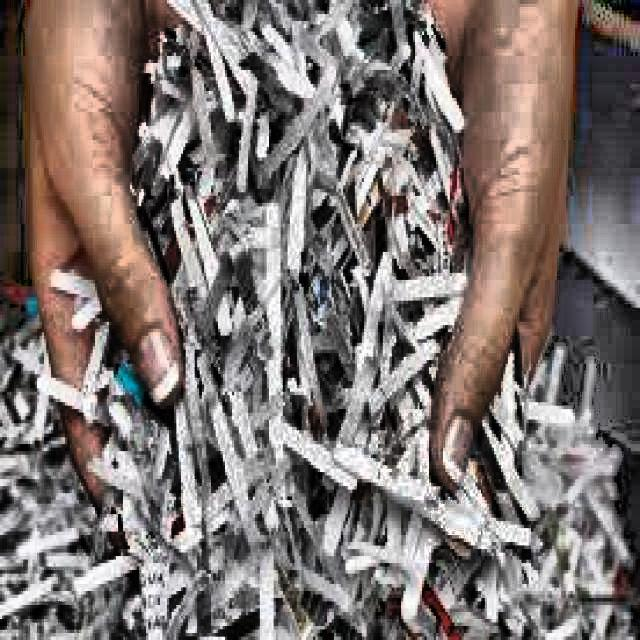Paper: (146, 0, 466, 637), (0, 263, 146, 637), (480, 343, 638, 637)
